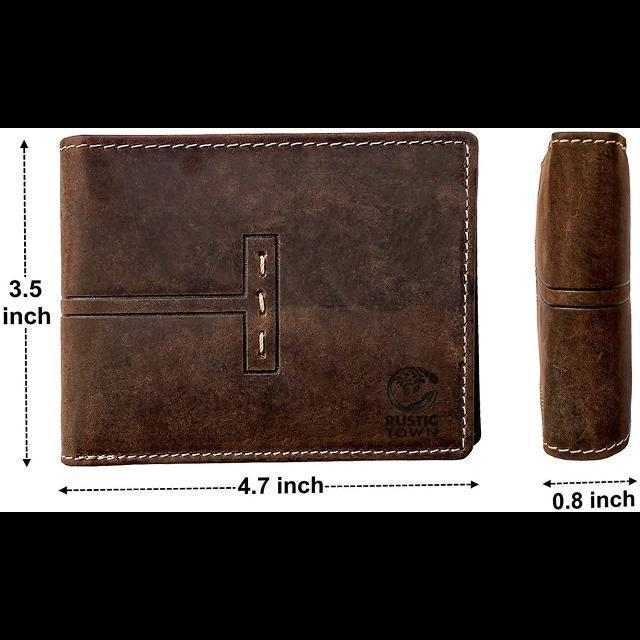wallet: (61, 132, 477, 464), (536, 130, 632, 460)
